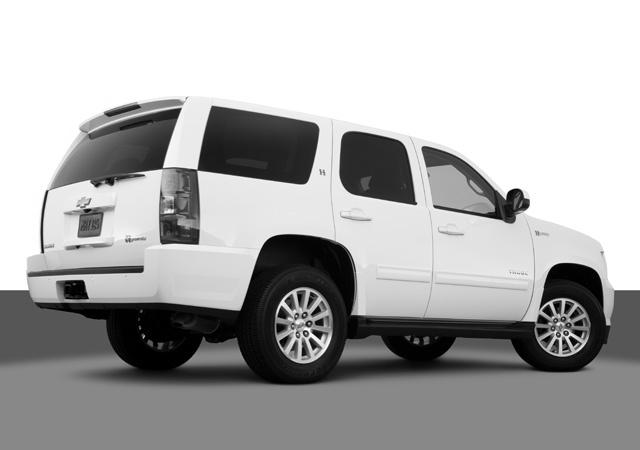car: (25, 93, 616, 387)
